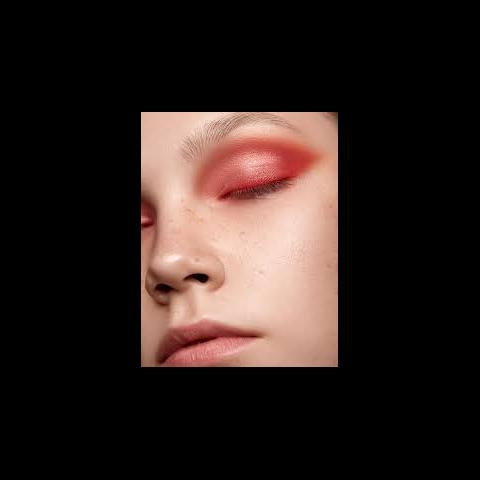closed: (178, 112, 322, 218)
